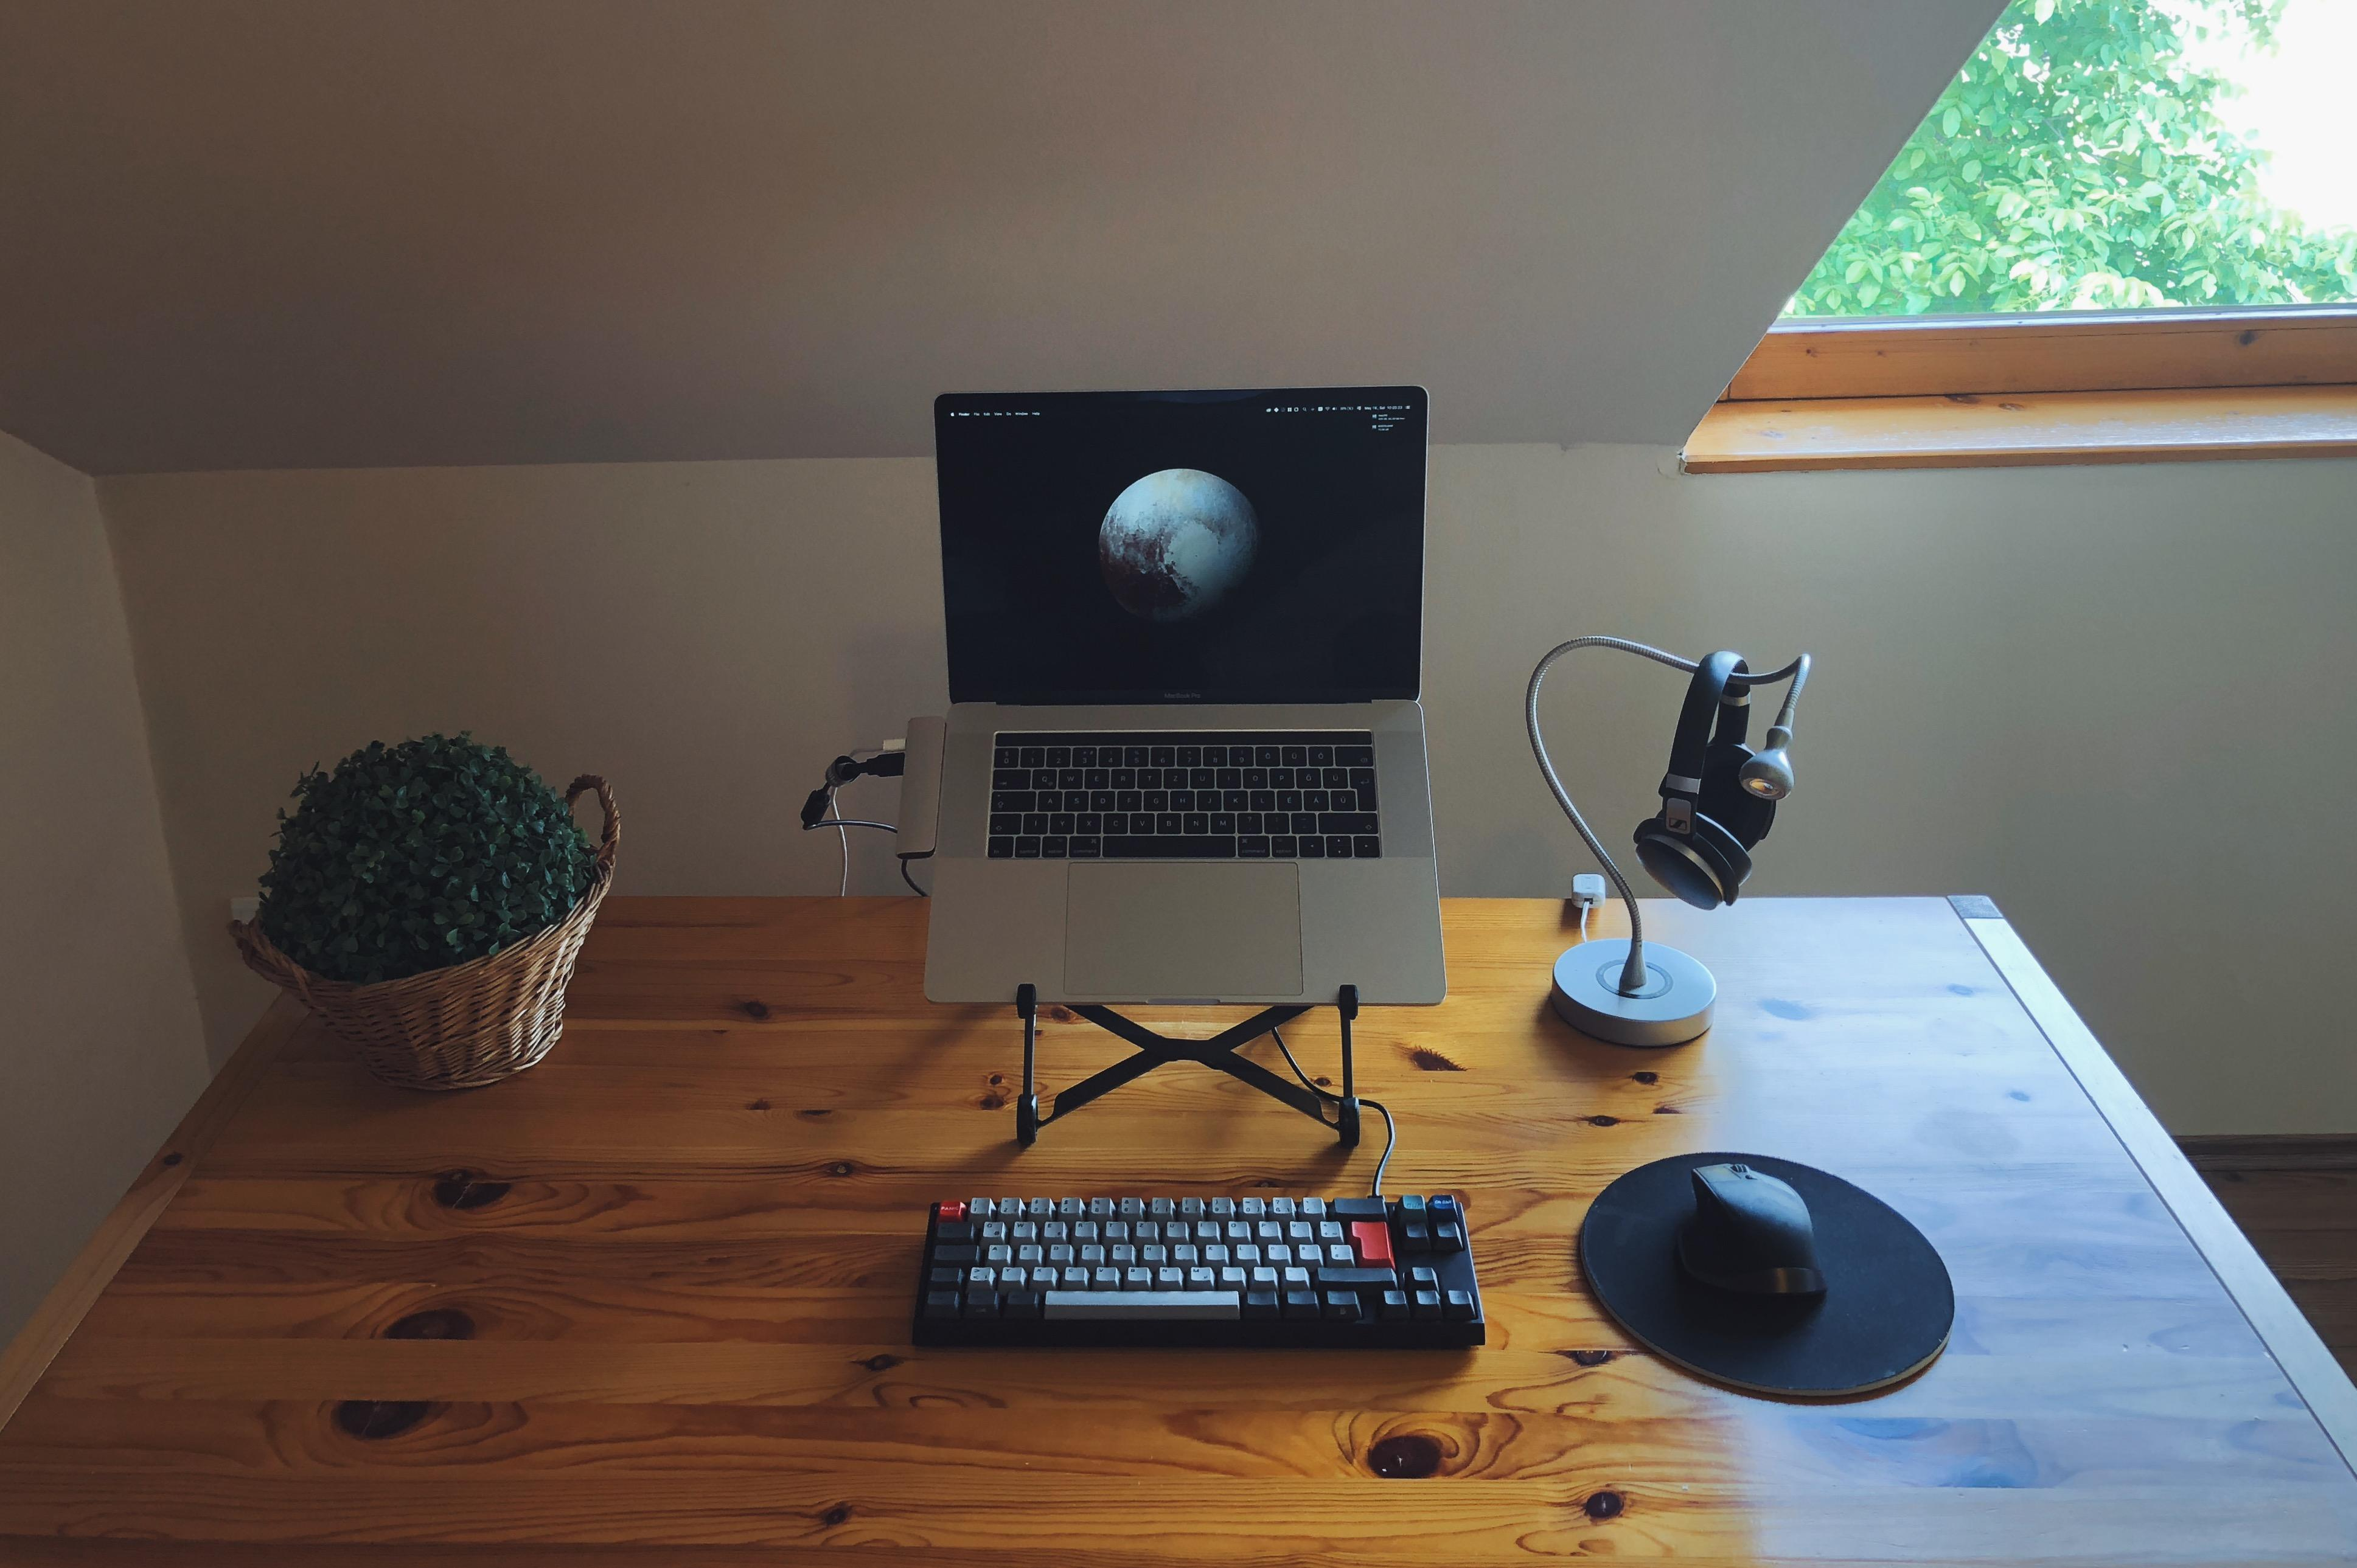Decoration (Plant): (212, 714, 646, 1102)
Desk (Generic): (16, 828, 2345, 1568)
Headphones: (1633, 621, 1788, 928)
Keyboard (Generic): (892, 1181, 1512, 1360)
Lamp (Desk): (1512, 626, 1816, 1074)
Laptop (OSX): (913, 385, 1461, 1015)
Laptop Stand: (999, 968, 1381, 1150)
Monitor (Laptop): (931, 376, 1435, 724)
Mouse (Ergonomic): (1671, 1143, 1837, 1316)
Mousepad (Generic): (1571, 1130, 1974, 1409)
